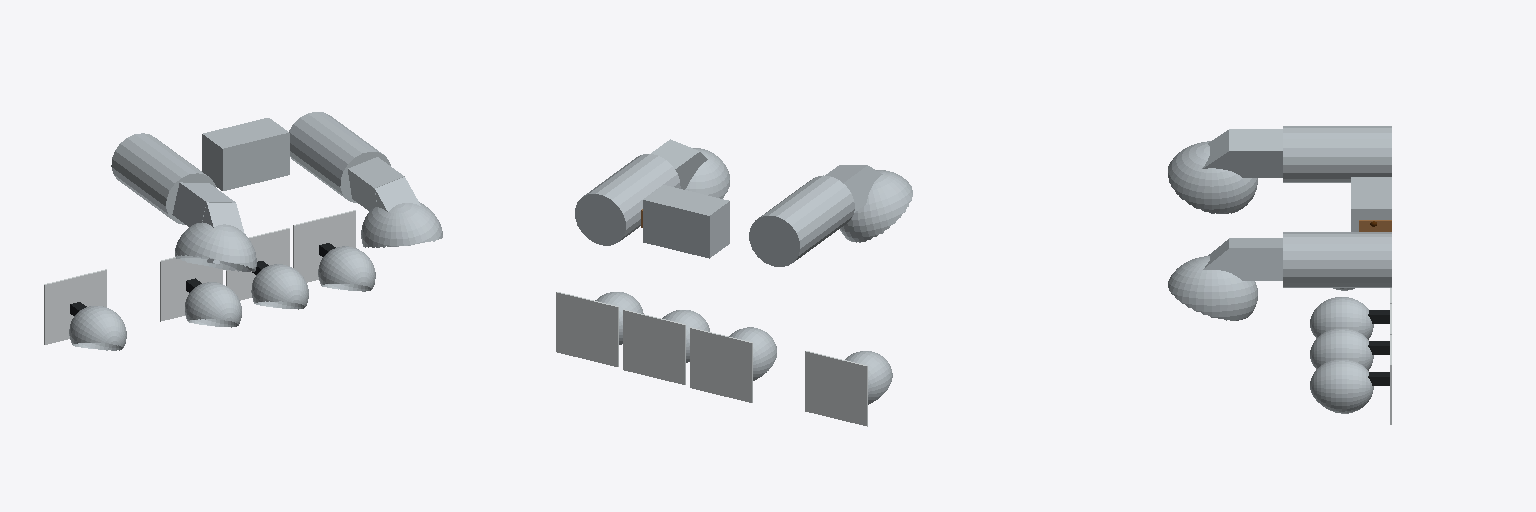
File: tinker.obj
3 views of the same model, side by side, from view 1: azimuth 30°, elevation 25°; view 2: azimuth 150°, elevation 25°; view 3: azimuth 270°, elevation 25° (orthographic).
Parts seen in each view (by area): view 1: obj_0; view 2: obj_0; view 3: obj_0.
Boxes of the visible parts, x1=… form: obj_0: x1=44, y1=112, x2=442, y2=350; obj_0: x1=556, y1=139, x2=912, y2=426; obj_0: x1=1168, y1=126, x2=1391, y2=424.
Size of the model in its own units: 174 by 103 by 109.